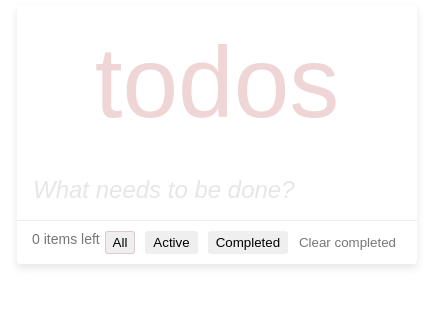
Test: App component › очищает завершенные задачи
Type "Завершенная задача" into the field with placeholder "What needs to be done?" at [217, 190], box [17,160,417,221]
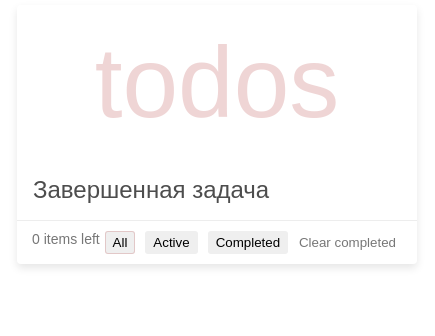
Press Enter in the field with placeholder "What needs to be done?", box [17,160,417,221]
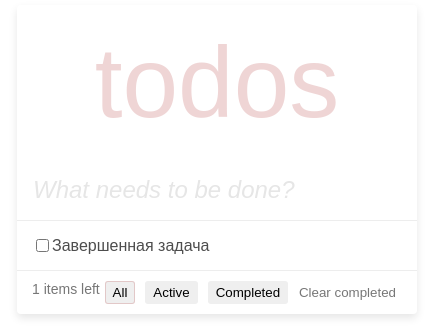
Click the checkbox at [42, 246], box [36,239,49,252]
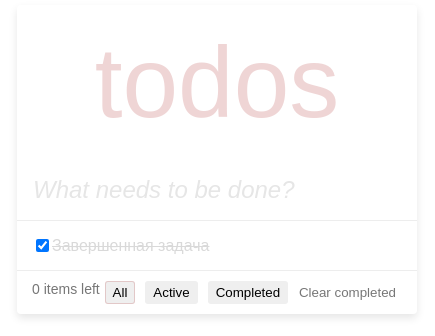
Click the button "Clear completed" at [347, 292], box [293,281,402,304]
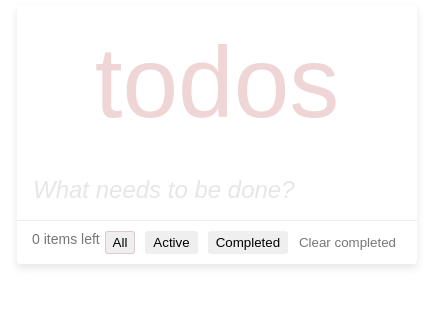
expect the text "Завершенная задача" is gone: met
